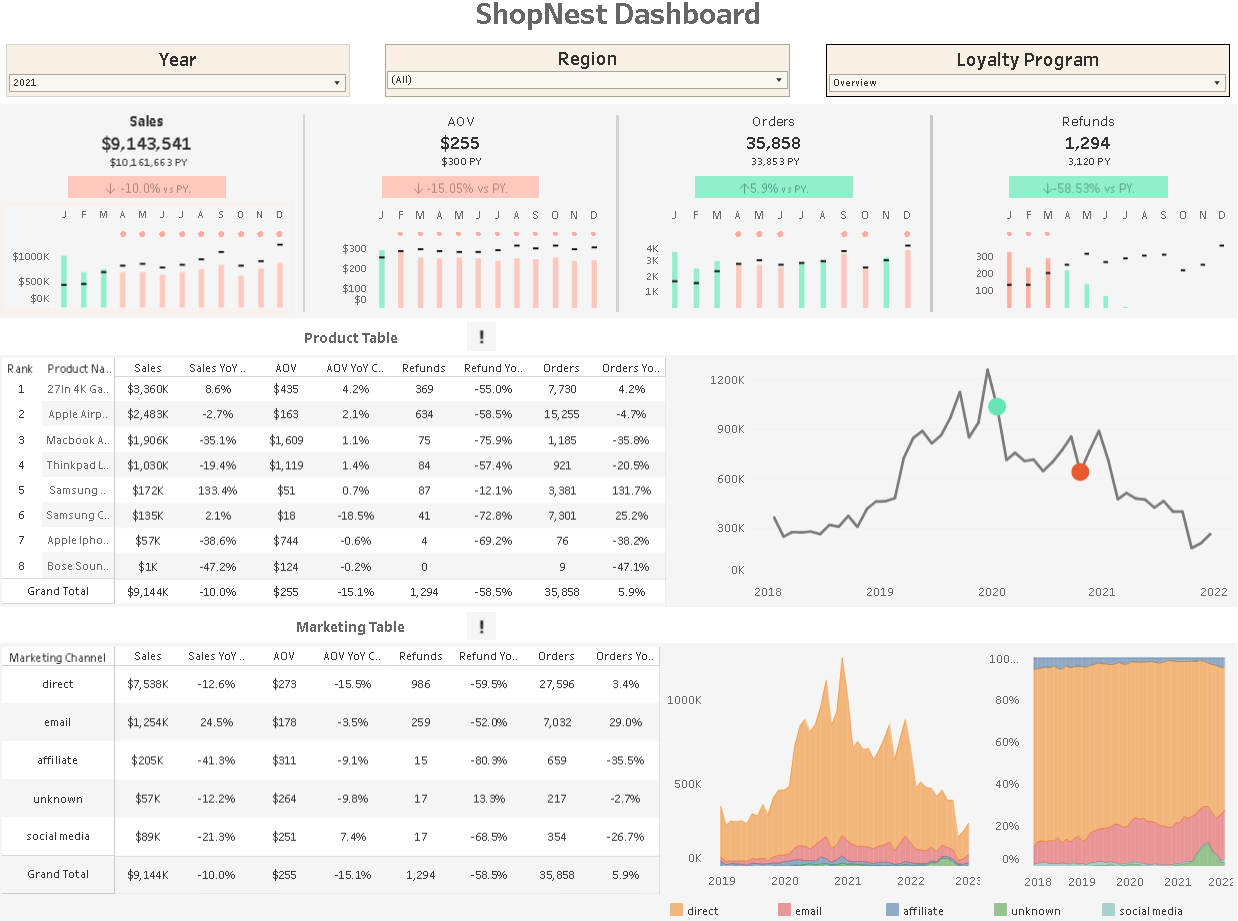

The dashboard page shown, as its layout file describes it:
{"tool":"tableau","page":{"name":"E-Commerce Dashboard","canvas":[1466,1068],"ordinal":0},"visuals":[{"type":"blank","box":[8,8,37,1052]},{"type":"text","box":[45,8,1375.8,54]},{"type":"blank","box":[1420.8,8,37.2,1052]},{"type":"parameter","param":"[Parameters].[Parameter 1]","box":[49,66,390,67]},{"type":"blank","box":[439,66,32,67]},{"type":"filter","title":"Sales Text","param":"[federated.0xa2xj31ri3njg17zrqng1dpn05a].[none:REGION:nk]","box":[471,66,456.9,67]},{"type":"blank","box":[927.9,66,32,67]},{"type":"parameter","param":"[Parameters].[Year Selected (copy)_1142506971504132098]","box":[959.9,66,456.9,67]},{"type":"worksheet","title":"Sales Text","mark":"Automatic","box":[47,139,325.7,74]},{"type":"blank","box":[372.7,139,23,234]},{"type":"worksheet","title":"AOV Text","mark":"Automatic","box":[395.7,139,325.7,74]},{"type":"blank","box":[721.4,139,23,234]},{"type":"worksheet","title":"Orders Text","mark":"Automatic","box":[744.4,139,325.7,74]},{"type":"blank","box":[1070.1,139,23,234]},{"type":"worksheet","title":"Refund Text","mark":"Automatic","box":[1093.1,139,325.7,74]},{"type":"blank","box":[47,213,71,32]},{"type":"worksheet","title":"Sales BTN","mark":"Square","box":[118,213,183.7,32]},{"type":"blank","box":[301.7,213,71,32]},{"type":"blank","box":[395.7,213,71,32]},{"type":"worksheet","title":"AOV BTN","mark":"Square","box":[466.7,213,183.7,32]},{"type":"blank","box":[650.4,213,71,32]},{"type":"blank","box":[744.4,213,71,32]},{"type":"worksheet","title":"Orders BTN","mark":"Square","box":[815.4,213,183.7,32]},{"type":"blank","box":[999.1,213,71,32]},{"type":"blank","box":[1093.1,213,71,32]},{"type":"worksheet","title":"Refund BTN","mark":"Square","box":[1164.1,213,183.7,32]},{"type":"blank","box":[1347.8,213,71,32]},{"type":"worksheet","title":"Sales Graph","mark":"Bar","rows":["Calculation_974466410042851328","Selected Year (copy)_974466410043158529"],"cols":["PURCHASE_TS","YoY Change Sign (copy)_974466410044526596"],"box":[47,245,325.7,128]},{"type":"worksheet","title":"AOV Graph","mark":"GanttBar","rows":["Orders Selected Year (copy)_1273955785422471179","Orders Selected Previous Year (copy)_1273955785422450698"],"cols":["PURCHASE_TS","● < Sales (copy)_1273955785422213128"],"box":[395.7,245,325.7,128]},{"type":"worksheet","title":"Orders Graph","mark":"Automatic","rows":["Selected Sales Year (copy)_1273955785416581127","Sales Previous Year  (copy)_1273955785416327171"],"cols":["PURCHASE_TS","● < Sales (copy)_1273955785415774208"],"box":[744.4,245,325.7,128]},{"type":"worksheet","title":"Refund Graph","mark":"Automatic","rows":["Refund Year (copy)_1020628307801571330","Refund Selected Year  (copy)_1020628307802804227"],"cols":["START_OF_PURCHASE_MONTH","● < Sales (copy)_1020628307807887366"],"box":[1093.1,245,325.7,128]},{"type":"blank","box":[49,379,258.4,32]},{"type":"text","box":[307.4,379,258.4,32]},{"type":"worksheet","title":"Product Info Button","mark":"Shape","box":[565.8,379,32,32]},{"type":"blank","box":[597.8,379,819,32]},{"type":"worksheet","title":"Products Table","mark":"Automatic","rows":["Calculation_1343198631543824384","PRODUCT_NAME"],"box":[45,415,746,281.5]},{"type":"worksheet","title":"Updated Product Graph","mark":"Automatic","rows":["Selected Sales Year (copy)_1098878351684214784","Max Selected Year (copy)_1439463073793093637"],"cols":["START_OF_PURCHASE_MONTH"],"box":[791,415,629.8,281.5]},{"type":"blank","box":[49,700.5,258.4,32]},{"type":"text","box":[307.4,700.5,258.4,32]},{"type":"worksheet","title":"Marketing Info Button","mark":"Shape","box":[565.8,700.5,32,32]},{"type":"blank","box":[597.8,700.5,819,32]},{"type":"worksheet","title":"Marketing Table","mark":"Automatic","rows":["MARKETING_CHANNEL"],"box":[45,736.5,739,281.5]},{"type":"worksheet","title":"Market Graph","mark":"Area","rows":["Selected Sales Year (copy)_1098878351684214784"],"cols":["START_OF_PURCHASE_MONTH"],"box":[784,736.5,357,281.5]},{"type":"worksheet","title":"Market Mix Graph","mark":"Area","cols":["START_OF_PURCHASE_MONTH"],"box":[1141,736.5,279.8,281.5]},{"type":"blank","box":[45,1018,739,42]},{"type":"legend","title":"Market Graph","param":"[federated.0xa2xj31ri3njg17zrqng1dpn05a].[none:MARKETING_CHANNEL:nk]","box":[784,1018,636.8,42]}]}

Visuals, with their boxes in screenshot pixels (x1, y1, x2, y2), scaled from the page's 1466x1068 canvas onto the 1238x921 screenshot:
blank: <bbox>7, 7, 38, 914</bbox>
text: <bbox>38, 7, 1200, 53</bbox>
blank: <bbox>1200, 7, 1231, 914</bbox>
parameter: <bbox>41, 57, 371, 115</bbox>
blank: <bbox>371, 57, 398, 115</bbox>
"Sales Text" filter: <bbox>398, 57, 784, 115</bbox>
blank: <bbox>784, 57, 811, 115</bbox>
parameter: <bbox>811, 57, 1196, 115</bbox>
"Sales Text" worksheet: <bbox>40, 120, 315, 184</bbox>
blank: <bbox>315, 120, 334, 322</bbox>
"AOV Text" worksheet: <bbox>334, 120, 609, 184</bbox>
blank: <bbox>609, 120, 629, 322</bbox>
"Orders Text" worksheet: <bbox>629, 120, 904, 184</bbox>
blank: <bbox>904, 120, 923, 322</bbox>
"Refund Text" worksheet: <bbox>923, 120, 1198, 184</bbox>
blank: <bbox>40, 184, 100, 211</bbox>
"Sales BTN" worksheet (Square marks): <bbox>100, 184, 255, 211</bbox>
blank: <bbox>255, 184, 315, 211</bbox>
blank: <bbox>334, 184, 394, 211</bbox>
"AOV BTN" worksheet (Square marks): <bbox>394, 184, 549, 211</bbox>
blank: <bbox>549, 184, 609, 211</bbox>
blank: <bbox>629, 184, 689, 211</bbox>
"Orders BTN" worksheet (Square marks): <bbox>689, 184, 844, 211</bbox>
blank: <bbox>844, 184, 904, 211</bbox>
blank: <bbox>923, 184, 983, 211</bbox>
"Refund BTN" worksheet (Square marks): <bbox>983, 184, 1138, 211</bbox>
blank: <bbox>1138, 184, 1198, 211</bbox>
"Sales Graph" worksheet (Bar marks): <bbox>40, 211, 315, 322</bbox>
"AOV Graph" worksheet (GanttBar marks): <bbox>334, 211, 609, 322</bbox>
"Orders Graph" worksheet: <bbox>629, 211, 904, 322</bbox>
"Refund Graph" worksheet: <bbox>923, 211, 1198, 322</bbox>
blank: <bbox>41, 327, 260, 354</bbox>
text: <bbox>260, 327, 478, 354</bbox>
"Product Info Button" worksheet (Shape marks): <bbox>478, 327, 505, 354</bbox>
blank: <bbox>505, 327, 1196, 354</bbox>
"Products Table" worksheet: <bbox>38, 358, 668, 601</bbox>
"Updated Product Graph" worksheet: <bbox>668, 358, 1200, 601</bbox>
blank: <bbox>41, 604, 260, 632</bbox>
text: <bbox>260, 604, 478, 632</bbox>
"Marketing Info Button" worksheet (Shape marks): <bbox>478, 604, 505, 632</bbox>
blank: <bbox>505, 604, 1196, 632</bbox>
"Marketing Table" worksheet: <bbox>38, 635, 662, 878</bbox>
"Market Graph" worksheet (Area marks): <bbox>662, 635, 964, 878</bbox>
"Market Mix Graph" worksheet (Area marks): <bbox>964, 635, 1200, 878</bbox>
blank: <bbox>38, 878, 662, 914</bbox>
"Market Graph" legend: <bbox>662, 878, 1200, 914</bbox>
